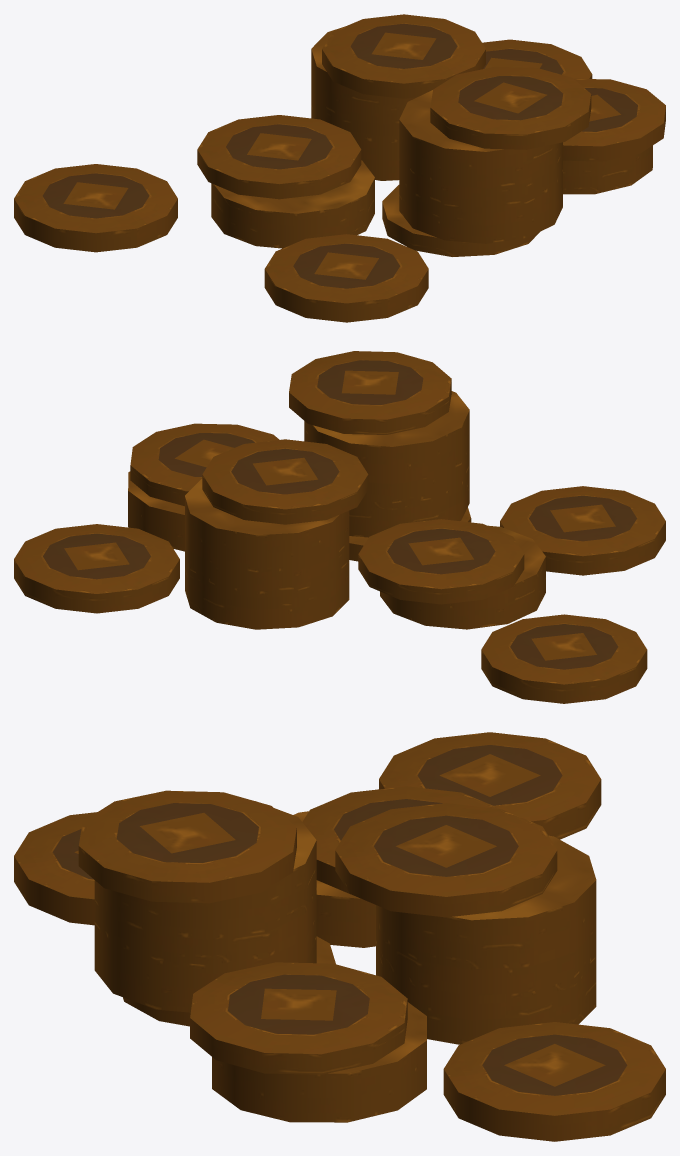
The model's file is coin_pile_2.glb.
The picture shows the model from 3 angles, top to bottom: view 1: azimuth 30°, elevation 25°; view 2: azimuth 150°, elevation 25°; view 3: azimuth 270°, elevation 25°; orthographic projection. The views are drawn at different scales.
Visible parts, largest first — view 1: Coin_Pile_2; view 2: Coin_Pile_2; view 3: Coin_Pile_2.
Boxes of the visible parts, x1,y1,x2,y2 form: Coin_Pile_2: [14, 14, 665, 322]; Coin_Pile_2: [14, 351, 665, 703]; Coin_Pile_2: [14, 732, 665, 1141].
Bounding box in the file's own units: 0.2787 × 0.0585 × 0.2002.
1 material, 1 textured.
